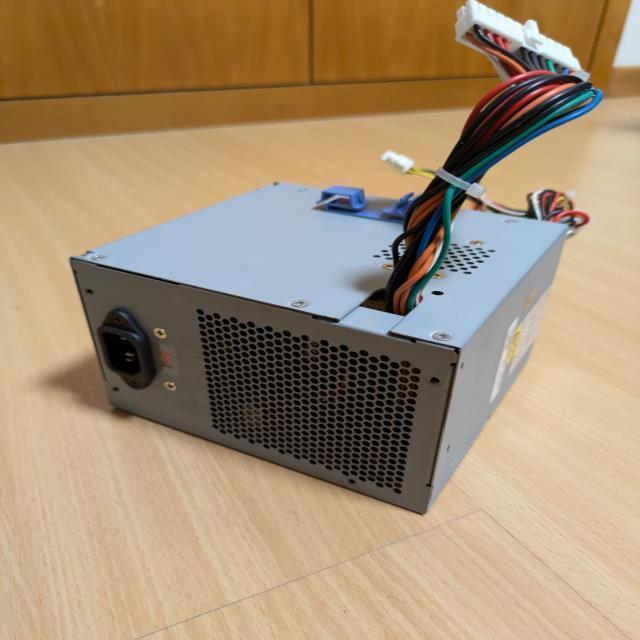PSU: (69, 180, 571, 516)
